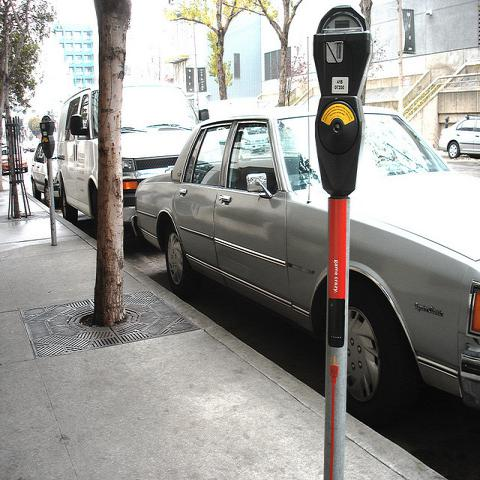car: (136, 98, 479, 426), (440, 114, 480, 163), (29, 141, 58, 207), (2, 146, 28, 176)
truck: (57, 83, 201, 244)
